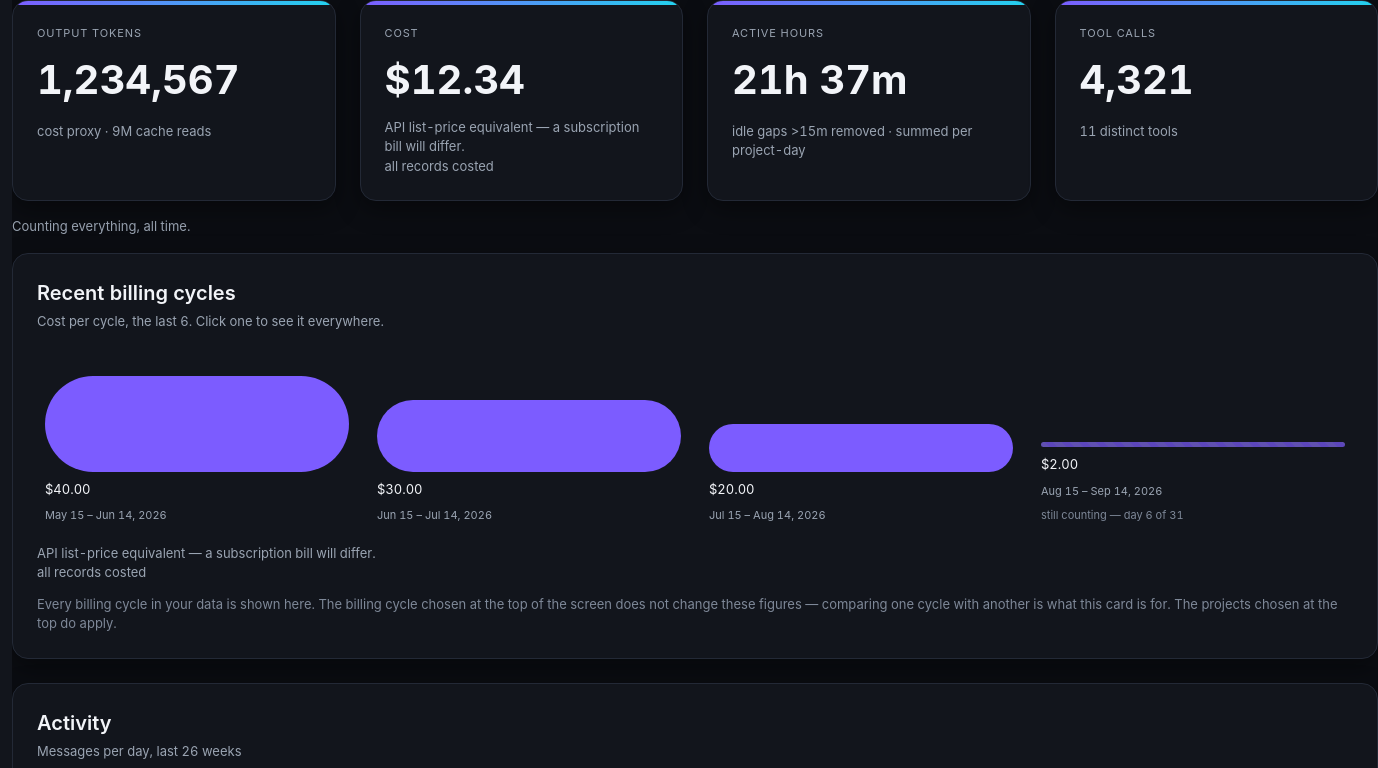
it: A-19 review — clicking a bar applies the cycle that was clicked (CLAUDE.md §1) › ⚠️ marks the cycle in force on the strip itself, not only in the control at the top
Click the button with test id "cycle-strip-bar" showing "$40.00 May 15 – Jun 14, 2026" at (197, 450), box [37,368,357,532]
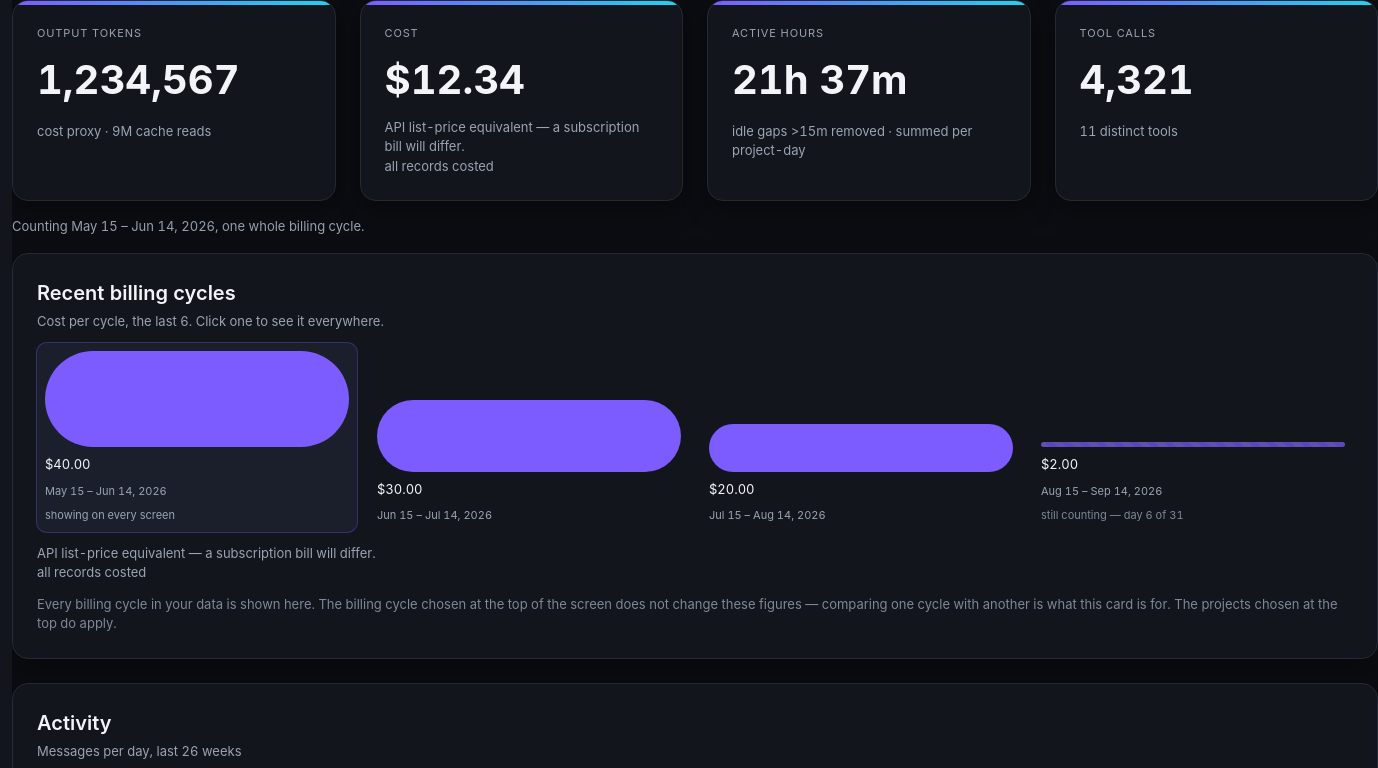
Now the number of elements with test id "cycle-strip-selected" is 1, box [45,508,175,522]
